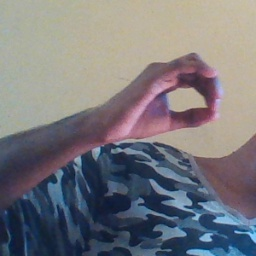O: (110, 47, 226, 151)
